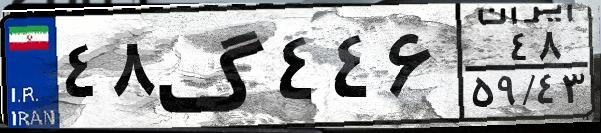3: (560, 70, 590, 125)
4: (270, 28, 330, 110), (330, 28, 385, 110), (57, 26, 110, 100), (508, 27, 537, 80), (535, 70, 560, 125)
5: (470, 70, 495, 125)
6: (385, 28, 445, 110)
8: (110, 28, 156, 98), (537, 27, 568, 80)
9: (495, 70, 520, 125)
گ: (156, 12, 270, 120)
